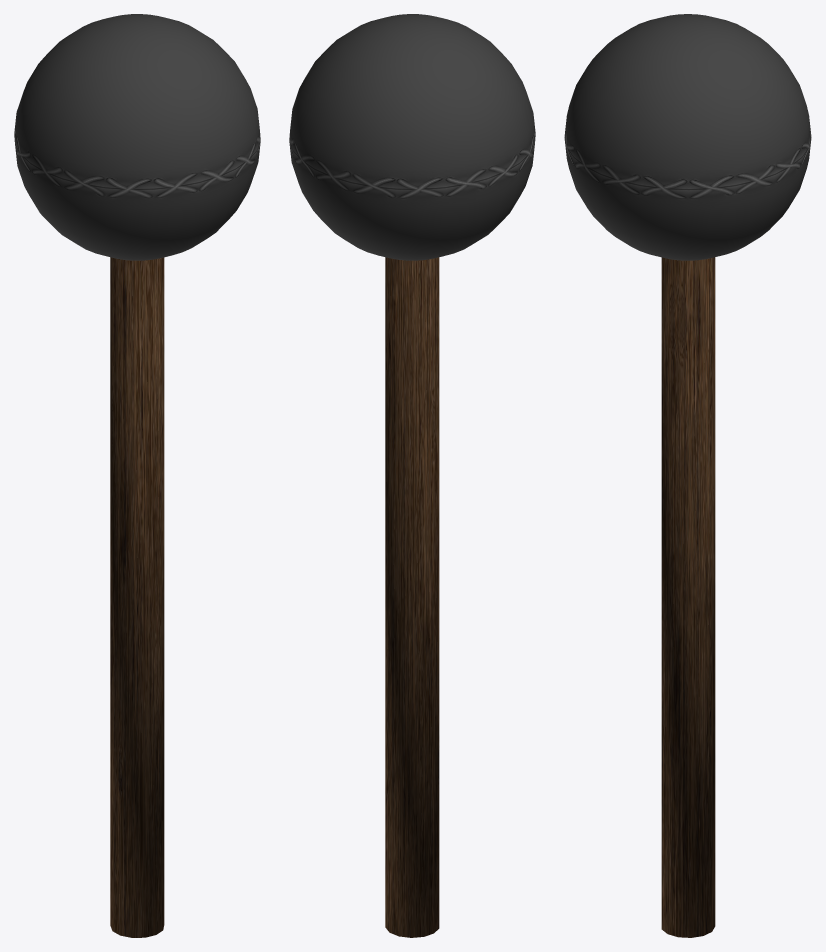
Rendered from hammer.glb.
The picture shows the model from 3 angles, left to right: view 1: azimuth 30°, elevation 25°; view 2: azimuth 150°, elevation 25°; view 3: azimuth 270°, elevation 25°; orthographic projection.
Parts seen in each view (by area): view 1: Cylinder; view 2: Cylinder; view 3: Cylinder.
Part boxes in pixels (x1=…): Cylinder: x1=14, y1=14, x2=260, y2=937; Cylinder: x1=289, y1=14, x2=535, y2=937; Cylinder: x1=564, y1=14, x2=811, y2=937.
Bounding box in the file's own units: 0.6 × 2.42 × 0.6.
Materials: 2 (2 with a texture image).
